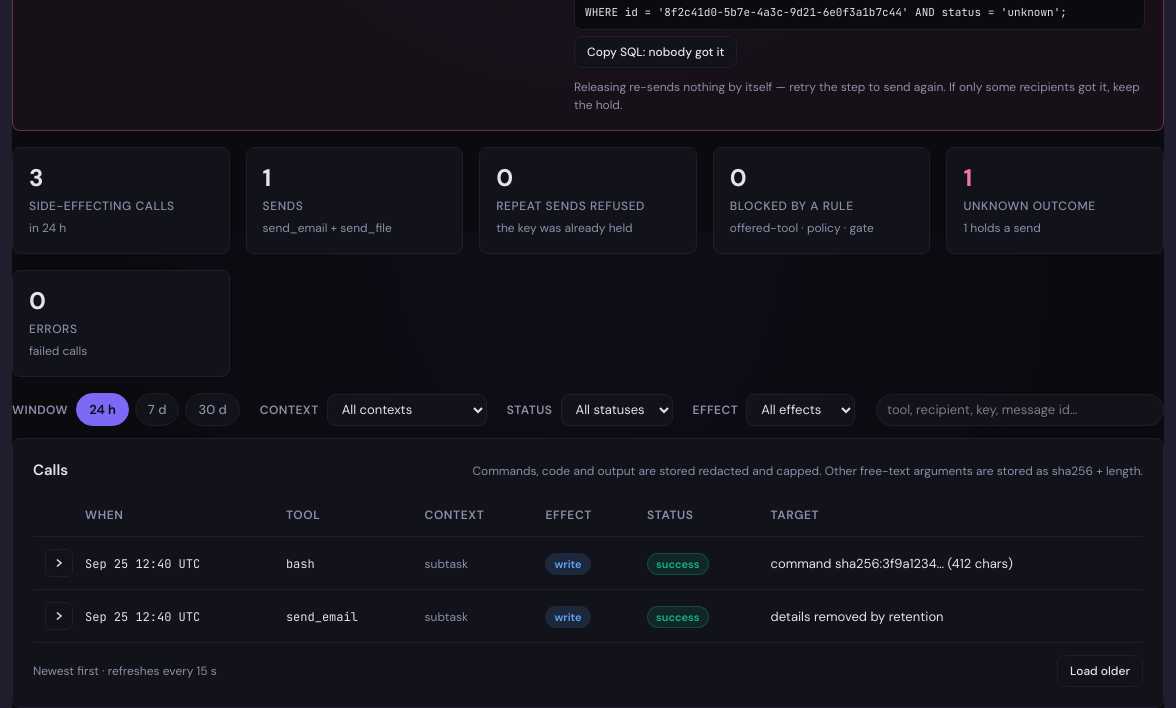
Test case: harness dashboard views › Ledger says when older rows fail to load and does not stay paused
This screenshot has width=1176, height=708.
(page scrolled)
Click the button "Load older": [1100, 671] box [1057,655,1143,687]
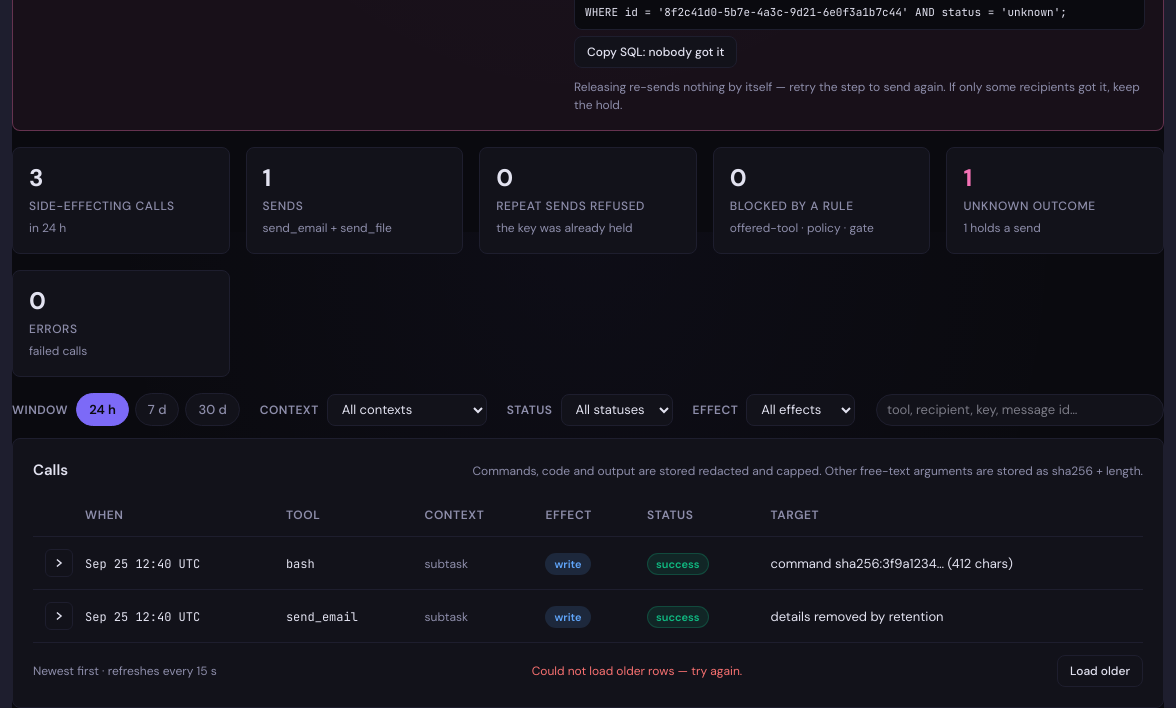
Expected: the text "Could not load older rows — try again." is shown, [532,662,742,680]
